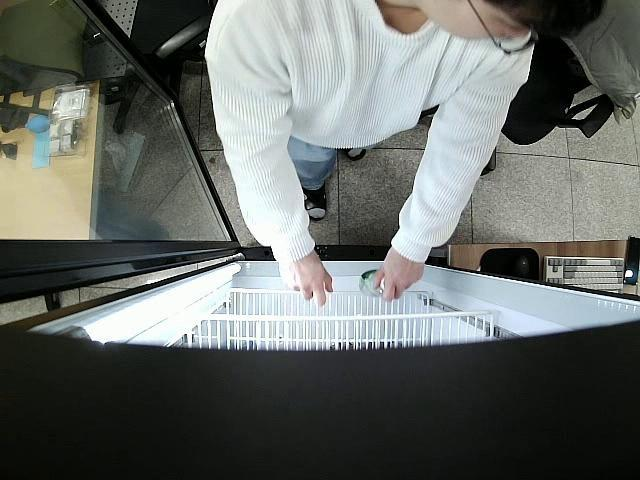18_trevi: (358, 269, 388, 298)
